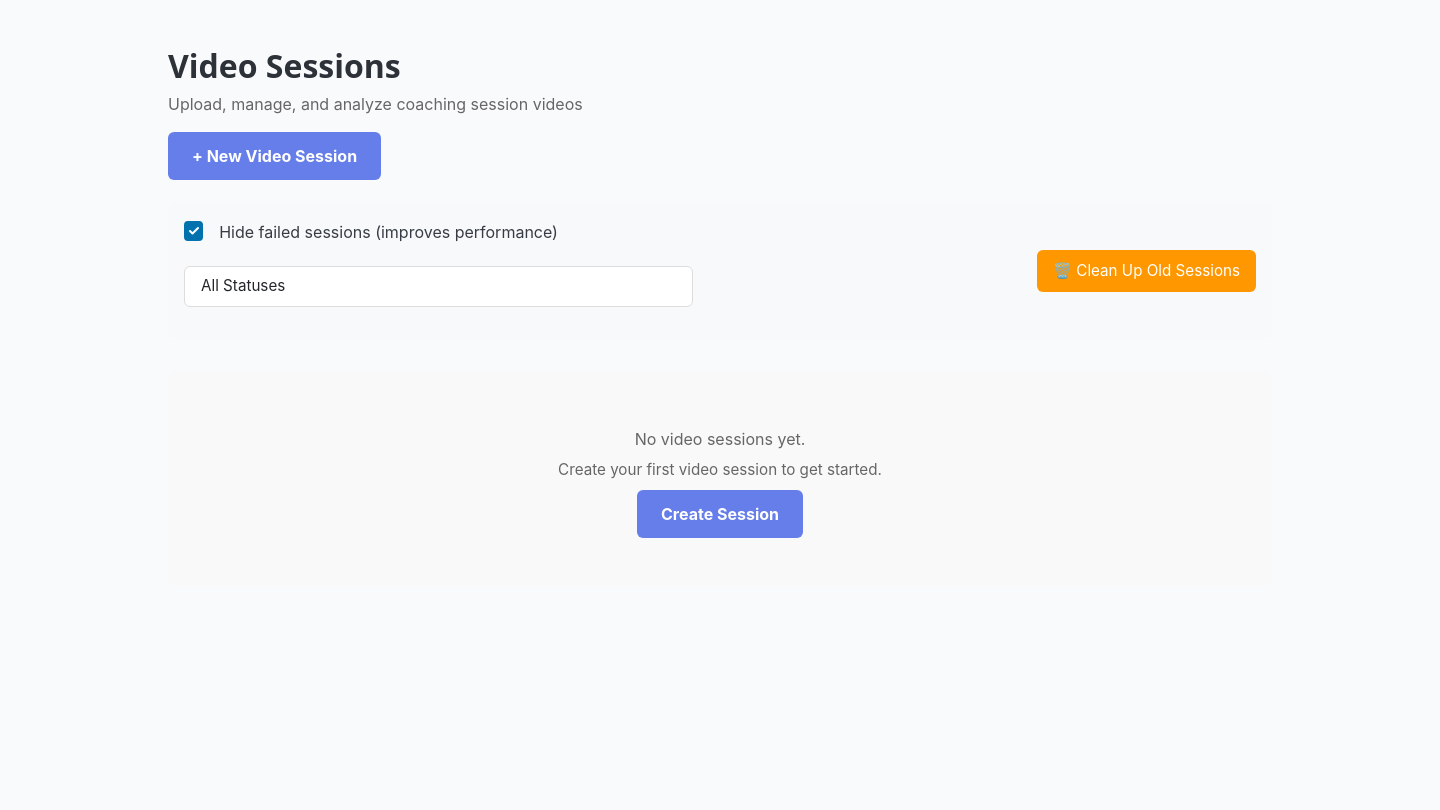
Test: CoachProPlusVideoSessionsView › creates a private coaching player and immediately selects it
This screenshot has width=1440, height=810.
Click the button "+ New Video Session". click: (275, 156)
box: [168,132,381,180]
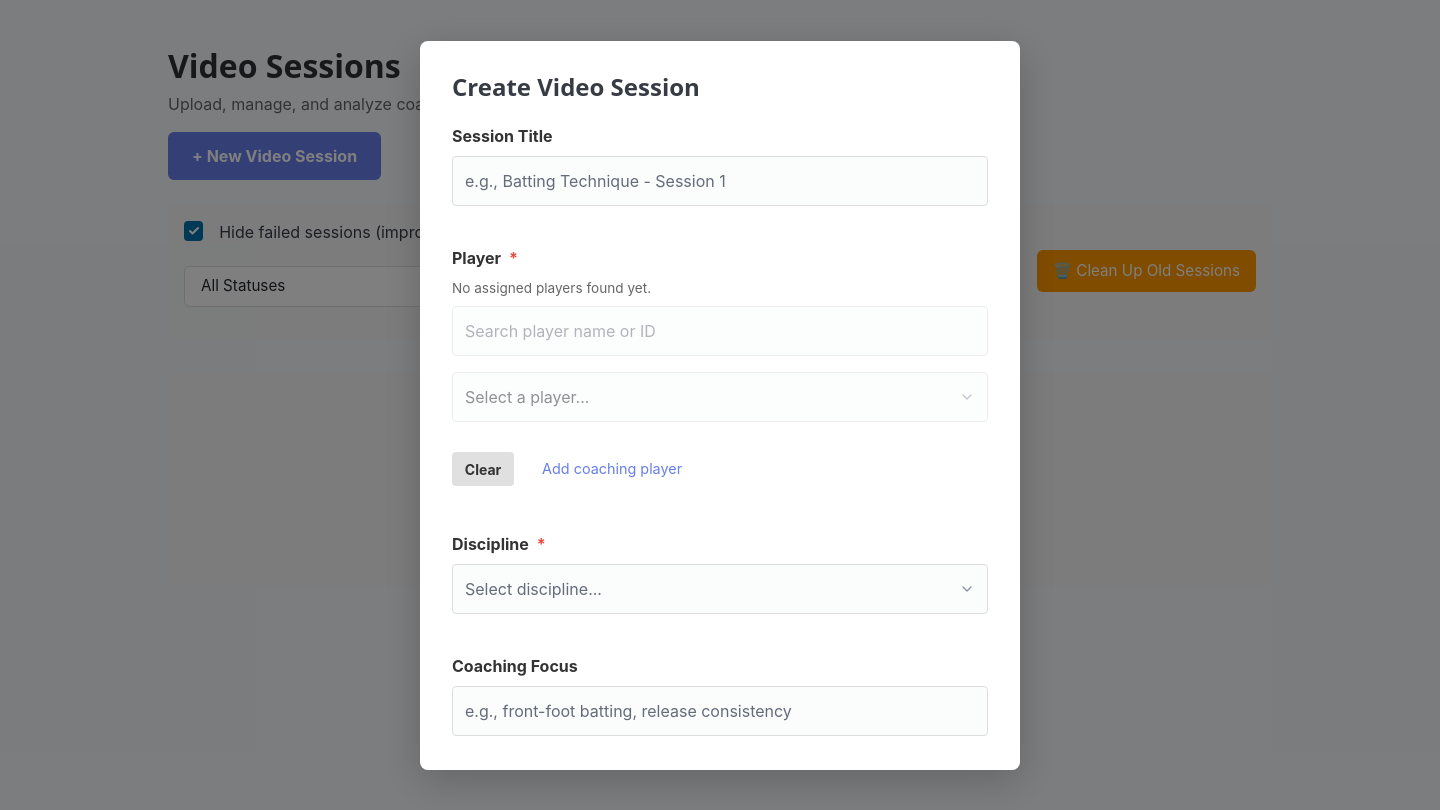
Click the button with class "btn-link-inline". click: (612, 469)
box: [526,446,698,492]
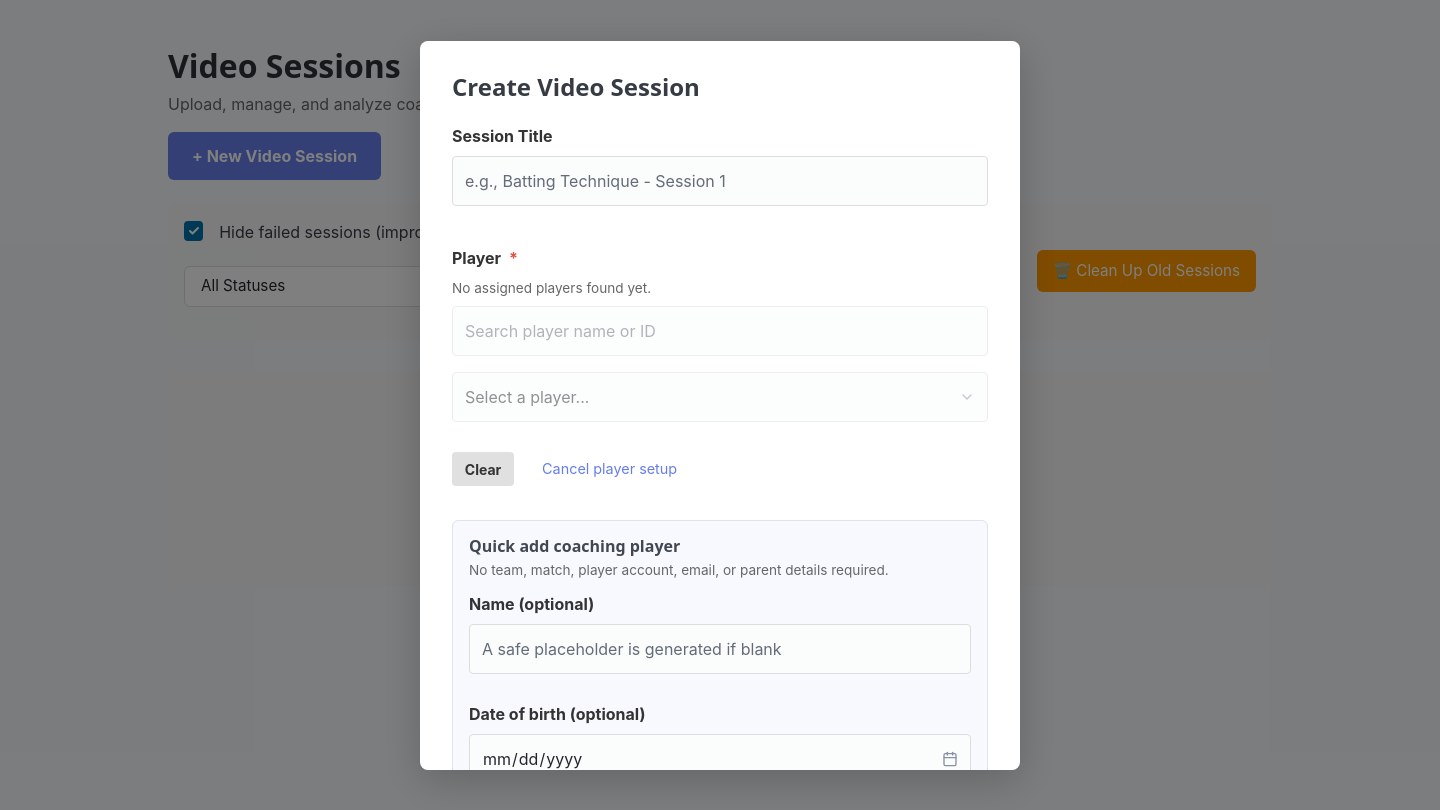
Type "Private Player" into the field with id "new-player-name". click: (720, 649)
box: [469,624,971,674]
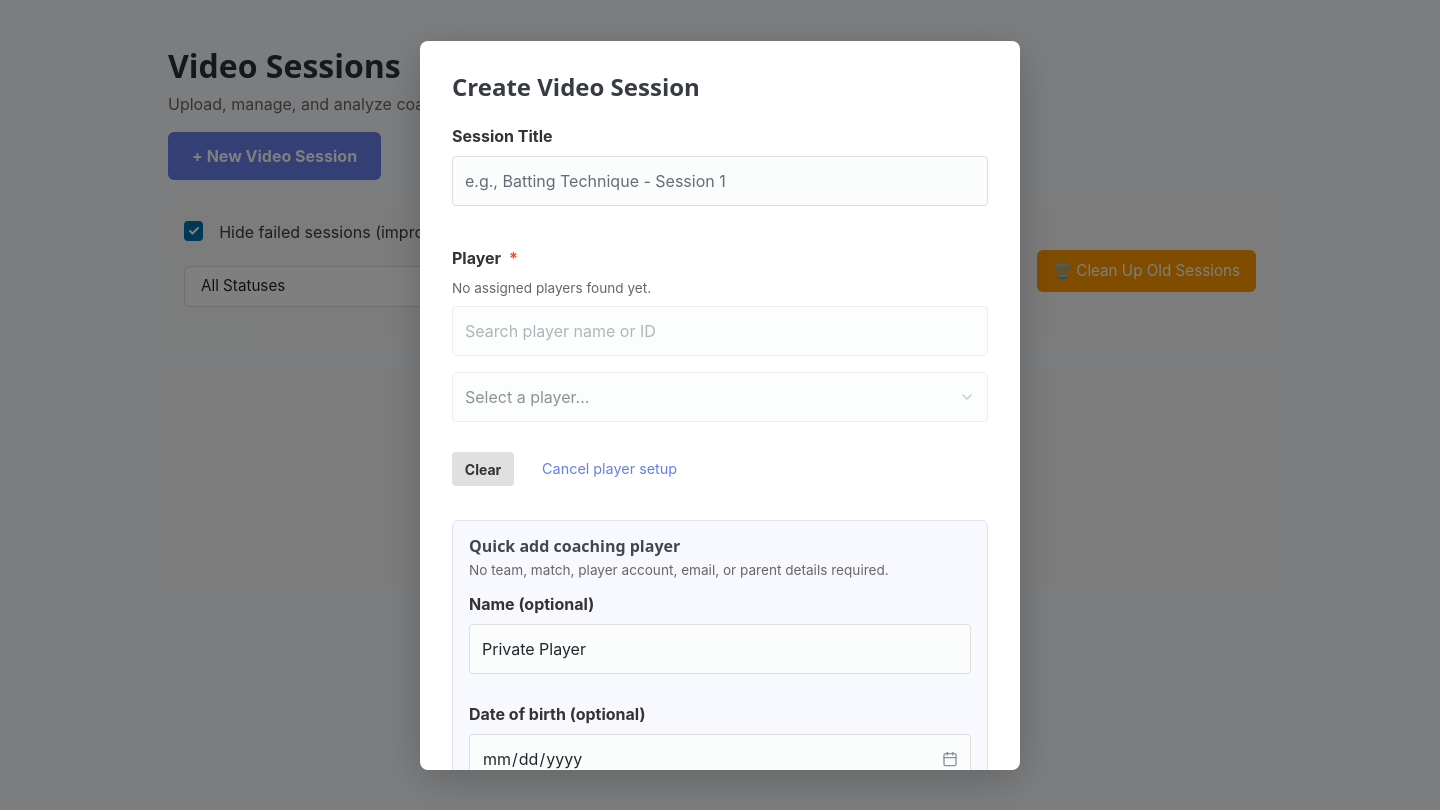
Type "2010-06-15" into the date field with id "new-player-dob". click: (720, 759)
box: [469,734,971,784]
(page scrolled)
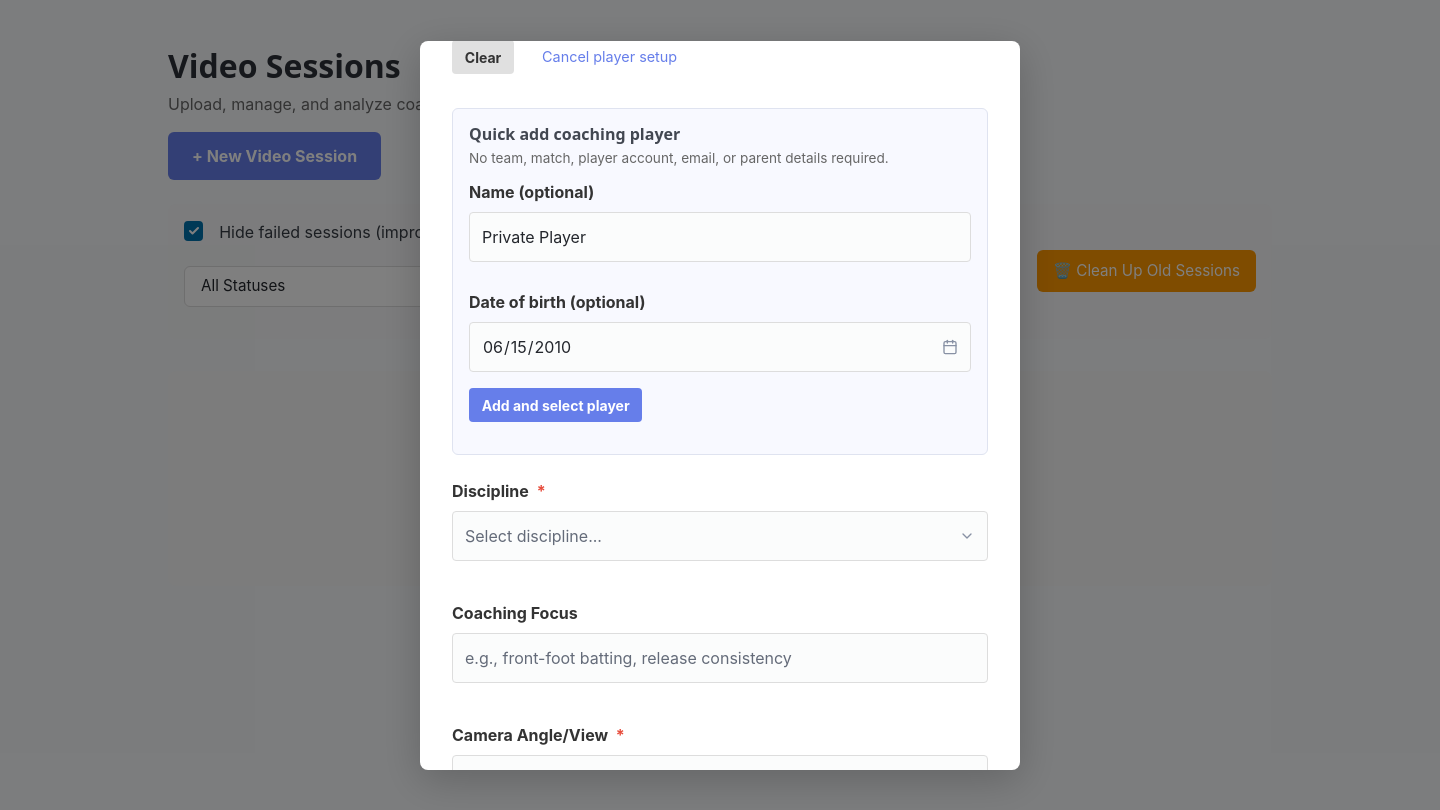
Click the button "Add and select player". click: (556, 405)
box: [469,388,642,422]
(page scrolled)
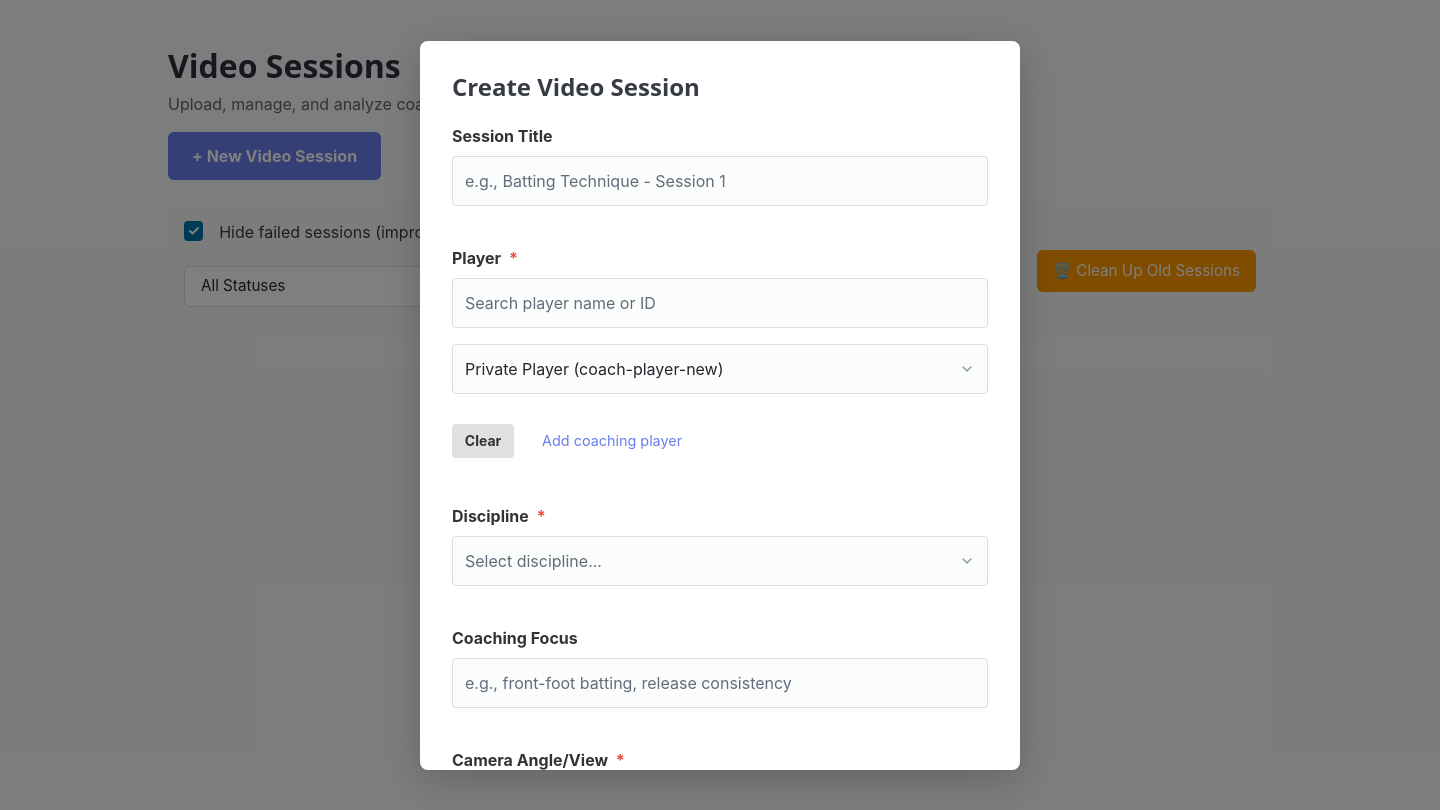
Check: the 1st dropdown shows "Private Player (coach-player-new)", box [452,344,988,394]
Check: the text "Quick add coaching player" is gone
